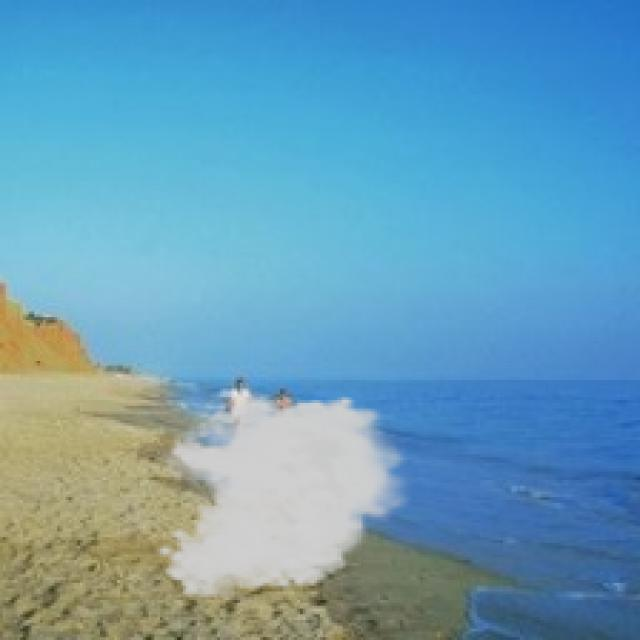smoke: (154, 383, 417, 600)
